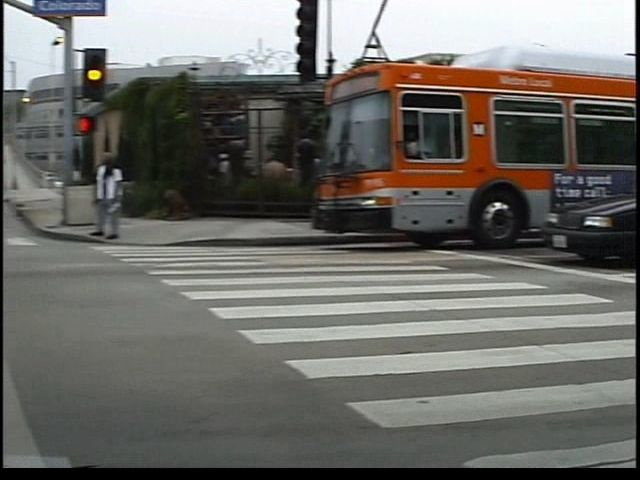person: (102, 150, 140, 247)
